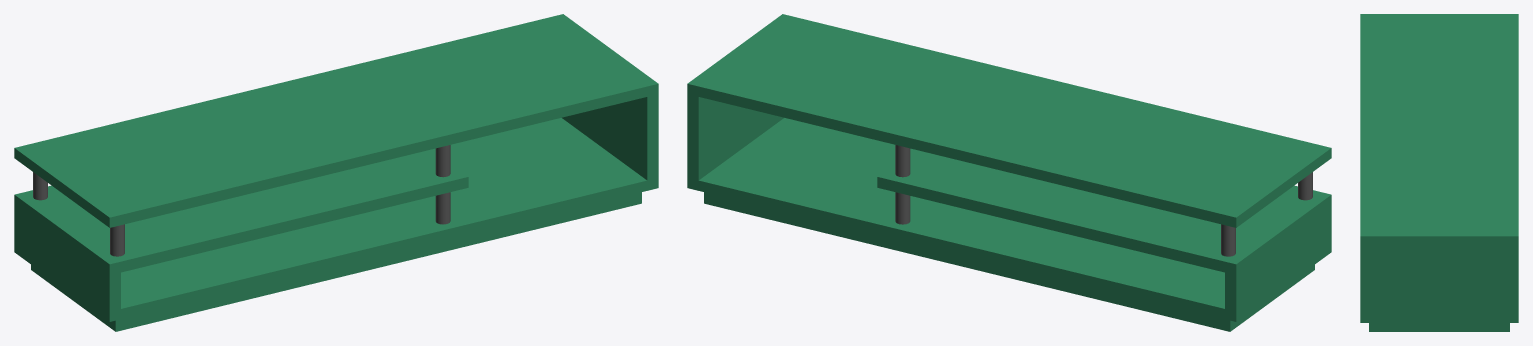
The model's file is mcp_tv_table.FBX.
The picture shows the model from 3 angles, left to right: view 1: azimuth 30°, elevation 25°; view 2: azimuth 150°, elevation 25°; view 3: azimuth 270°, elevation 25°; orthographic projection. The views are drawn at different scales.
Visible parts, largest first — view 1: mcp_tv_table, mcp_tv_table_metal_parts; view 2: mcp_tv_table, mcp_tv_table_metal_parts; view 3: mcp_tv_table.
Boxes of the visible parts, <box> form: mcp_tv_table: <box>14,14,658,331</box>; mcp_tv_table_metal_parts: <box>33,145,450,256</box>; mcp_tv_table: <box>687,14,1331,331</box>; mcp_tv_table_metal_parts: <box>895,145,1312,256</box>; mcp_tv_table: <box>1360,14,1518,331</box>.
Bounding box in the file's own units: 233 × 49.1 × 70.16.
